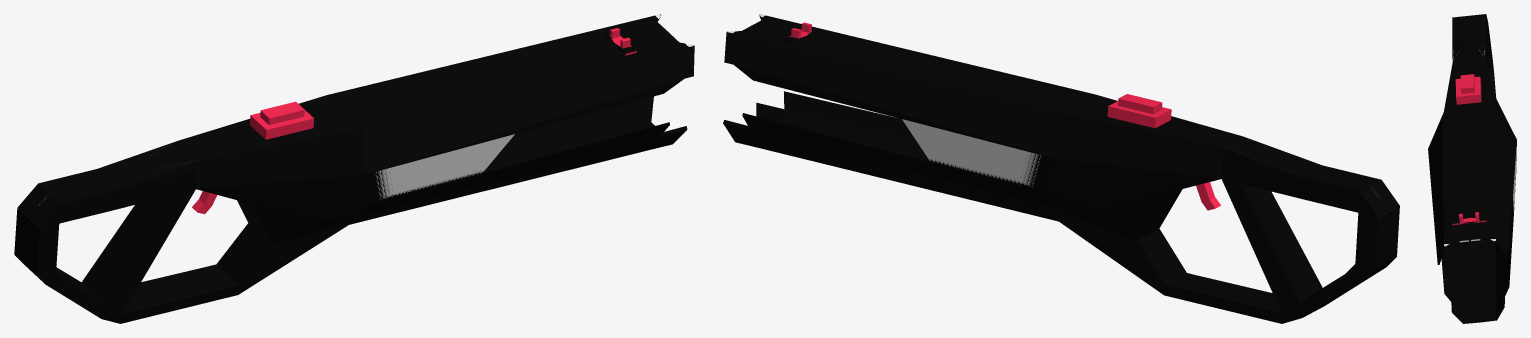
Rendered from assault_rifle.fbx.
3 views of the same model, side by side, from view 1: azimuth 30°, elevation 25°; view 2: azimuth 150°, elevation 25°; view 3: azimuth 270°, elevation 25° (orthographic). The views are drawn at different scales.
Parts seen in each view (by area): view 1: Assault_Rifle, Scope; view 2: Assault_Rifle, Scope; view 3: Assault_Rifle, Scope, Crosshair.
Part boxes in pixels (left/top/right/bottom): Assault_Rifle: left=14, top=14, right=694, bottom=323; Scope: left=249, top=101, right=313, bottom=139; Assault_Rifle: left=723, top=14, right=1399, bottom=323; Scope: left=1107, top=94, right=1171, bottom=128; Assault_Rifle: left=1428, top=14, right=1516, bottom=323; Scope: left=1455, top=74, right=1481, bottom=104; Crosshair: left=1452, top=212, right=1486, bottom=225.
Bounding box in the file's own units: 65.96 × 10.2 × 16.93.
